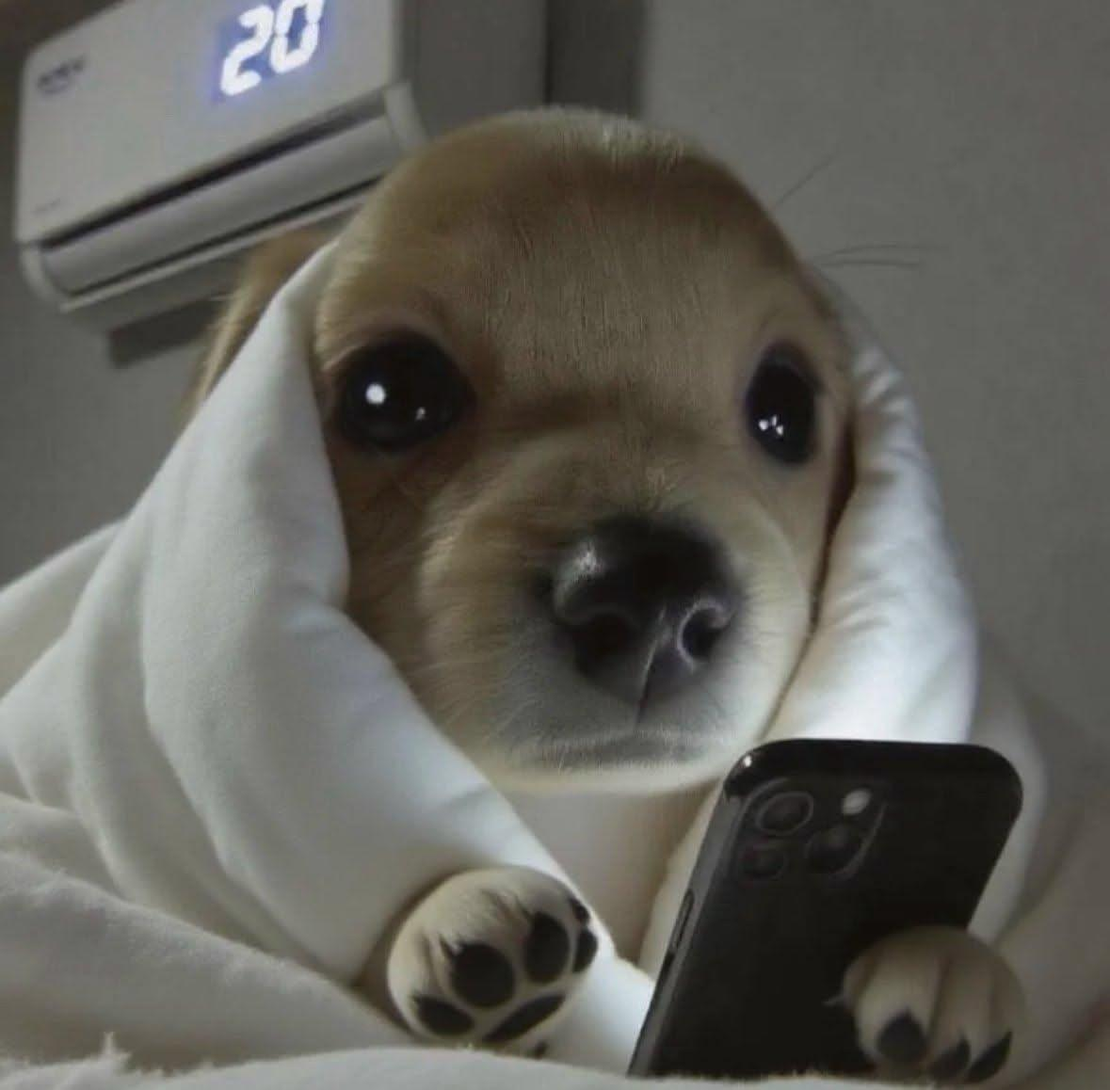puppy-dog: (180, 104, 1038, 1081)
